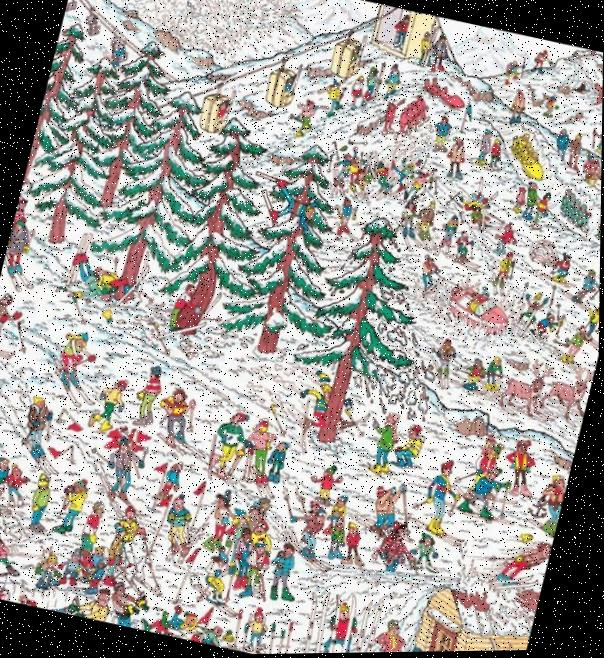waldo: (392, 521, 410, 540)
